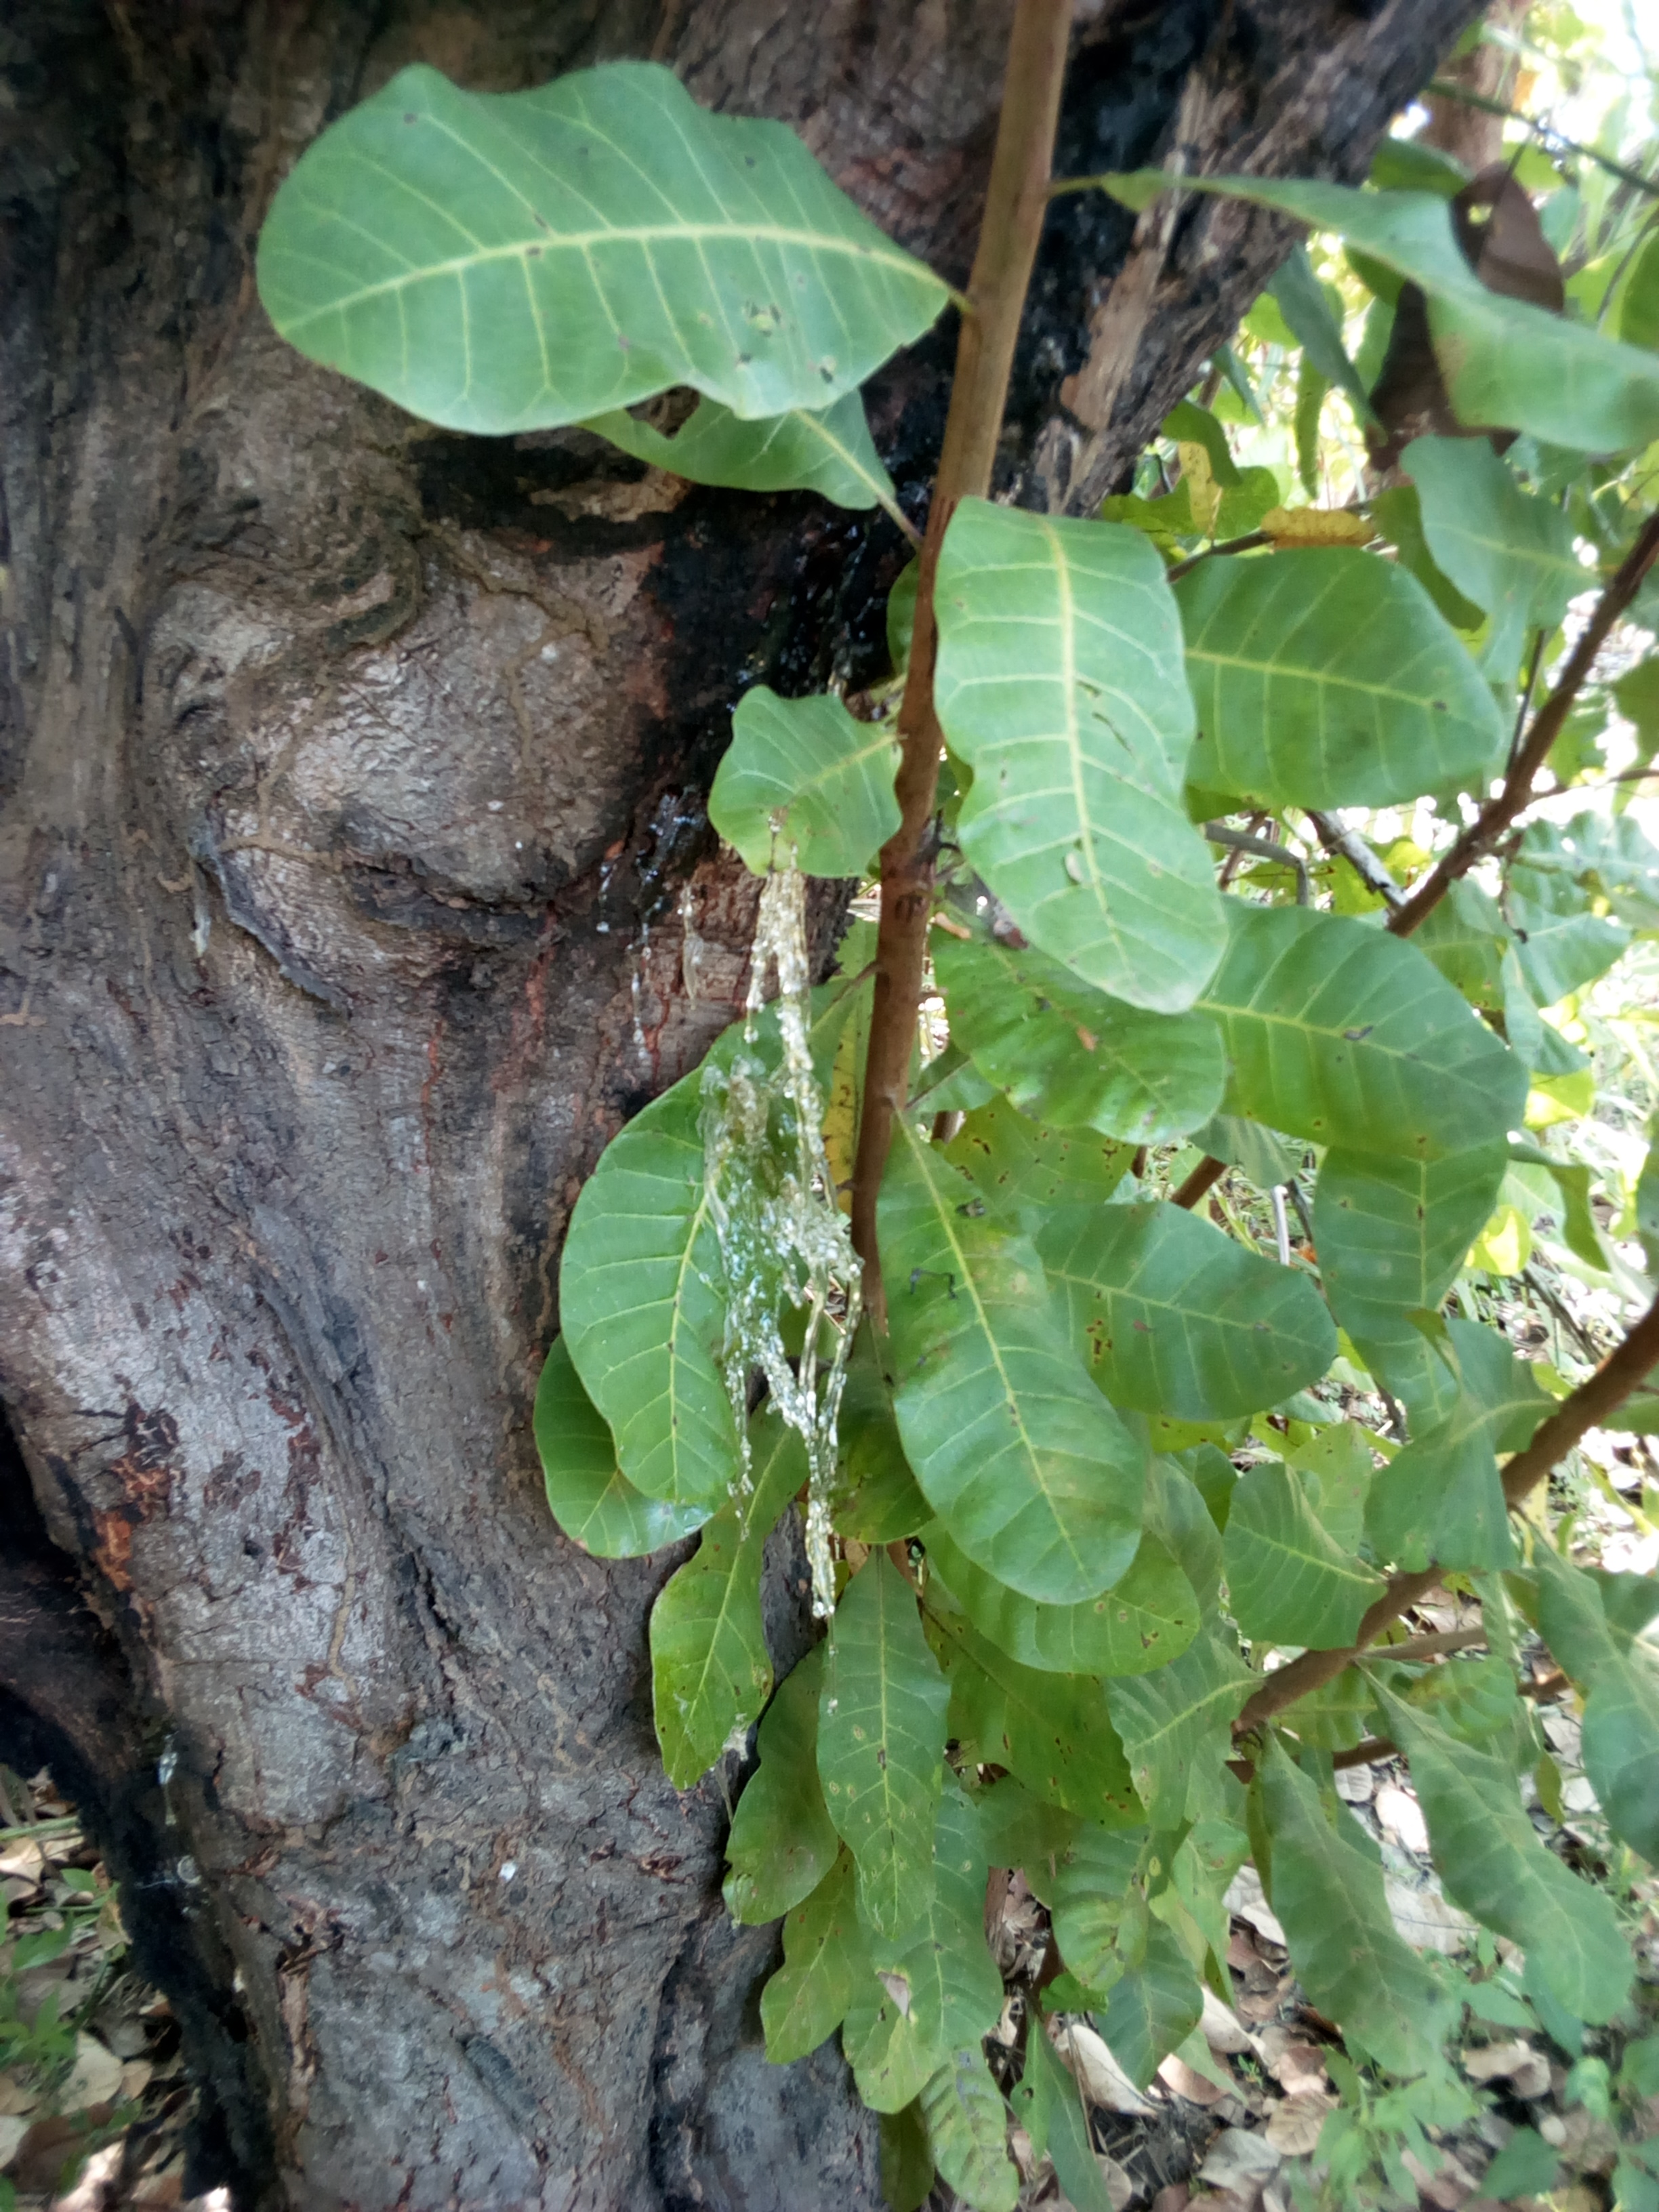Mecocorynus longiceps: (653, 329, 979, 920), (1002, 12, 1310, 425)
